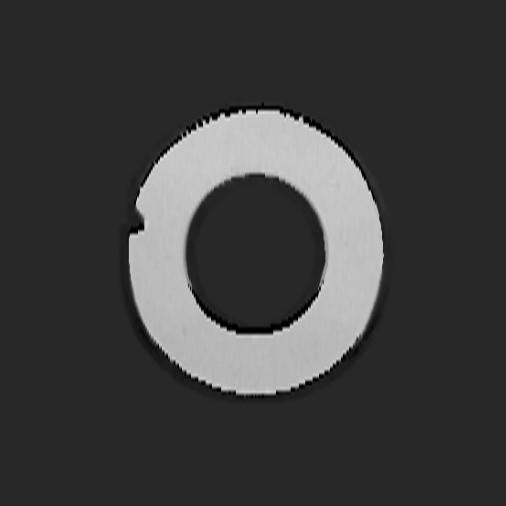defect: (129, 206, 145, 238)
